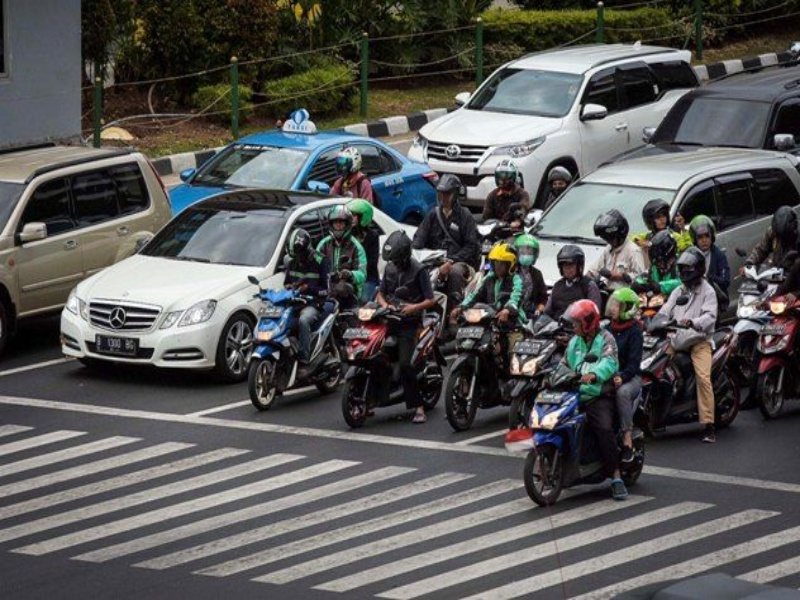zebra cross: (1, 420, 792, 597)
